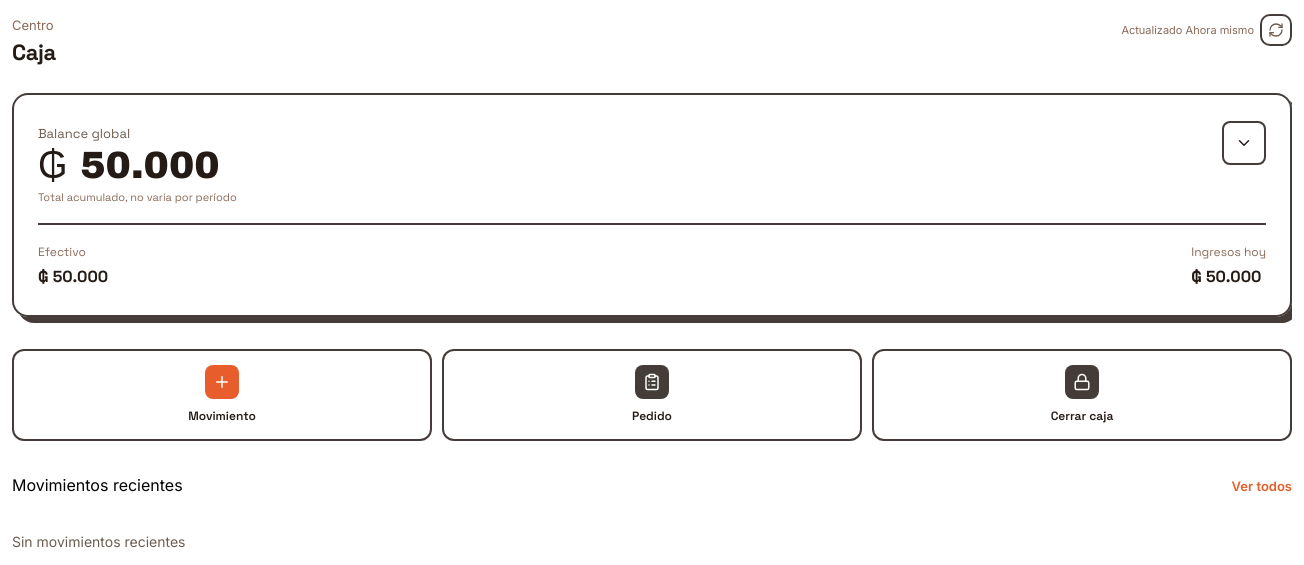
Test case: HomePage K1/K2: running-total scope note + K5: last-updated/refresh › K5: clicking refresh re-fetches the running balance
Check: the text "₲ 50.000" below "Balance global" is shown, box [38,145,220,186]
Click the button named "Actualizar".
click(1276, 30)  # box [1260,14,1292,46]
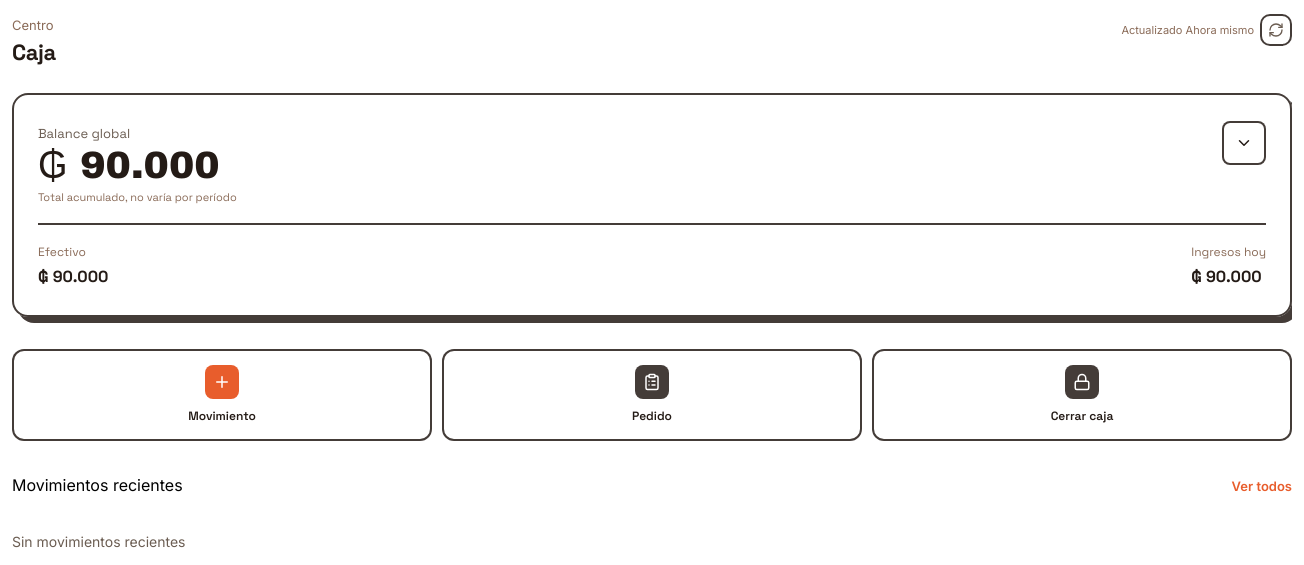
Check: the text "₲ 50.000" below "Balance global" shows "90.000", box [38,145,220,186]
